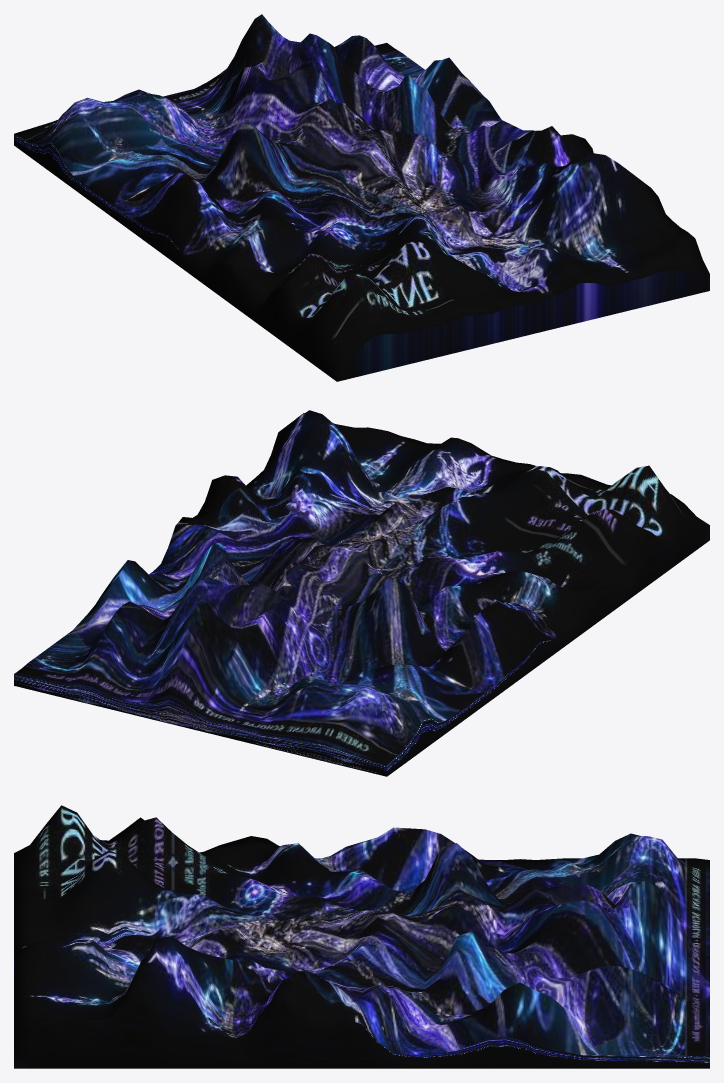
Rendered from CAREER_11_Outfit_06_Immortal.glb.
The picture shows the model from 3 angles, top to bottom: view 1: azimuth 30°, elevation 25°; view 2: azimuth 150°, elevation 25°; view 3: azimuth 270°, elevation 25°; orthographic projection. The views are drawn at different scales.
Parts seen in each view (by area): view 1: CAREER_11_Outfit_06_Immortal; view 2: CAREER_11_Outfit_06_Immortal; view 3: CAREER_11_Outfit_06_Immortal.
Part boxes in pixels (x1,y1,x2,y2): CAREER_11_Outfit_06_Immortal: [14, 14, 709, 381]; CAREER_11_Outfit_06_Immortal: [14, 410, 709, 776]; CAREER_11_Outfit_06_Immortal: [14, 805, 709, 1068].
Size of the model in its own units: 2 by 0.51 by 3.
Materials: 1 (1 with a texture image).
